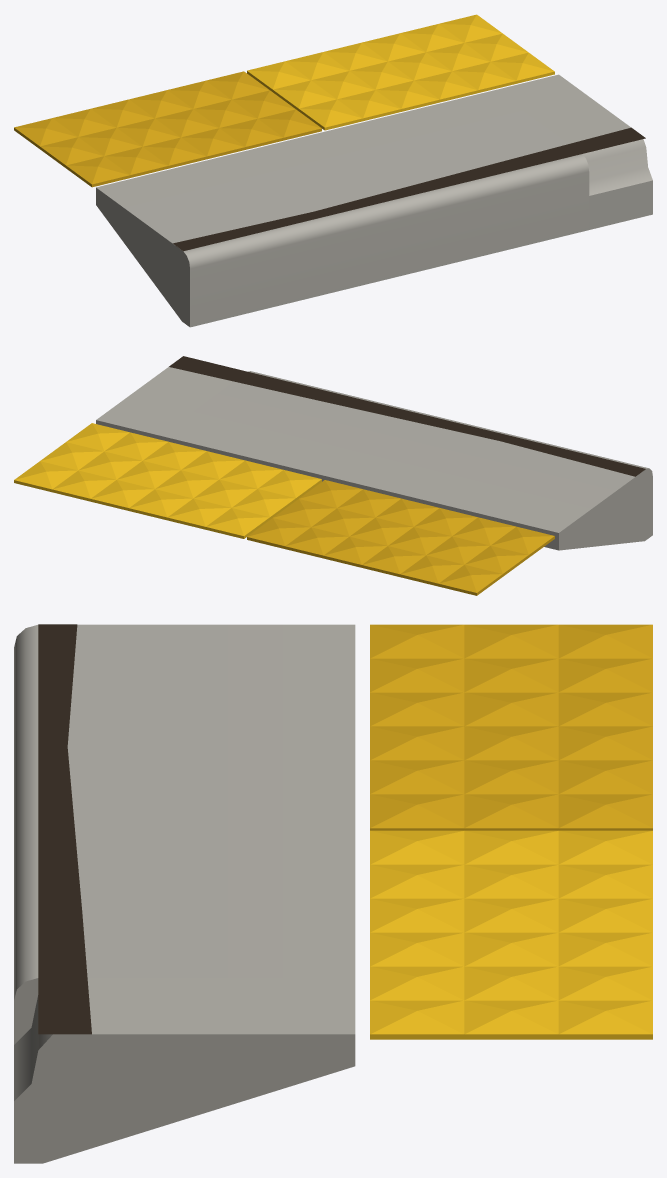
File: platform_edge@2.glb
The picture shows the model from 3 angles, top to bottom: view 1: azimuth 30°, elevation 25°; view 2: azimuth 150°, elevation 25°; view 3: azimuth 270°, elevation 25°; orthographic projection. The views are drawn at different scales.
Parts seen in each view (by area): view 1: kantenstein, noppen0, noppen1, kantenstein_abplatzer, kante_abrieb; view 2: kantenstein, noppen0, noppen1, kante_abrieb, kantenstein_abplatzer; view 3: kantenstein, noppen1, noppen0, kantenstein_abplatzer, kante_abrieb.
Boxes of the visible parts, x1,y1,x2,y2 form: kantenstein: (96, 90, 589, 327); noppen0: (14, 71, 321, 187); noppen1: (247, 14, 554, 130); kantenstein_abplatzer: (495, 74, 652, 229); kante_abrieb: (173, 127, 645, 251); kantenstein: (159, 371, 652, 550); noppen0: (247, 480, 554, 595); noppen1: (14, 423, 321, 538); kante_abrieb: (169, 356, 645, 476); kantenstein_abplatzer: (96, 367, 233, 439); kantenstein: (14, 624, 355, 1044); noppen1: (370, 830, 652, 1039); noppen0: (370, 624, 652, 830); kantenstein_abplatzer: (14, 978, 355, 1163); kante_abrieb: (38, 624, 91, 1034).
Bounding box in the file's own units: 0.994 × 0.1535 × 0.655.
